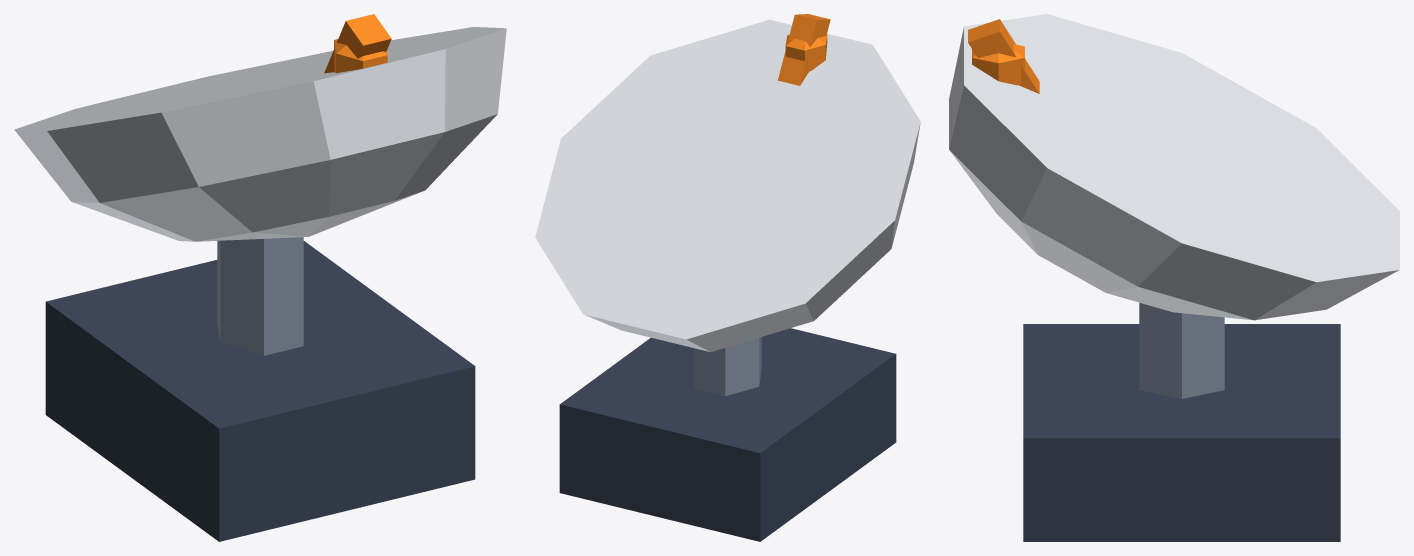
The model's file is env_r9_small_dish.glb.
The picture shows the model from 3 angles, left to right: view 1: azimuth 30°, elevation 25°; view 2: azimuth 150°, elevation 25°; view 3: azimuth 270°, elevation 25°; orthographic projection. The views are drawn at different scales.
Parts seen in each view (by area): view 1: env_r9_small_dish; view 2: env_r9_small_dish; view 3: env_r9_small_dish.
Part boxes in pixels (left/top/right/bottom): env_r9_small_dish: left=14, top=14, right=506, bottom=541; env_r9_small_dish: left=535, top=14, right=920, bottom=541; env_r9_small_dish: left=949, top=14, right=1399, bottom=541.
Size of the model in its own units: 1.6 by 1.8 by 1.6.
Materials: 1 (1 with a texture image).
